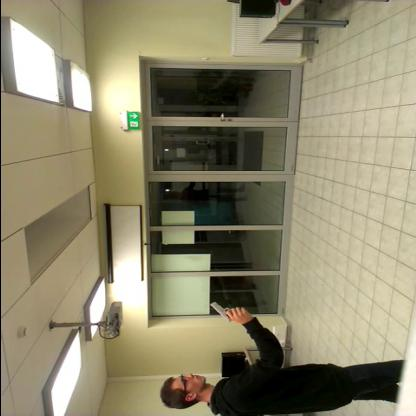Pistol: (209, 299, 242, 323)
